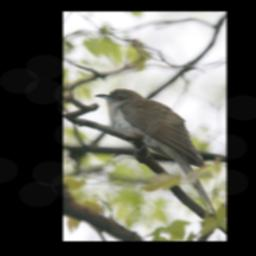Cuckoo: (95, 88, 217, 218)
